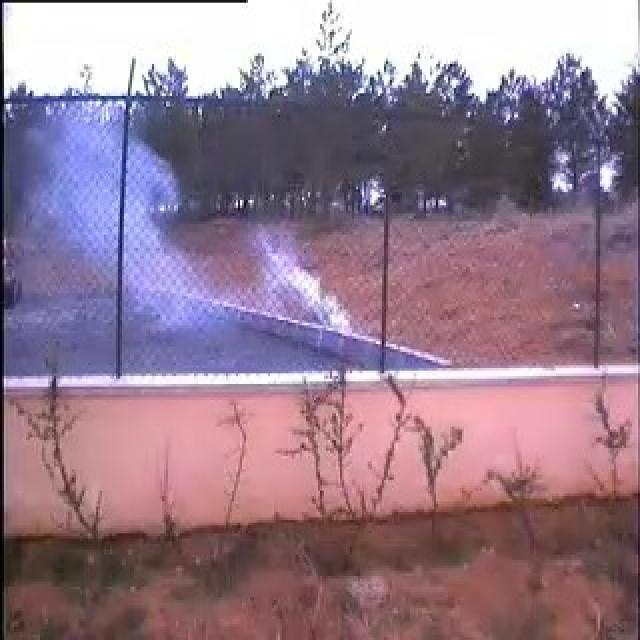smoke: (41, 102, 360, 339)
